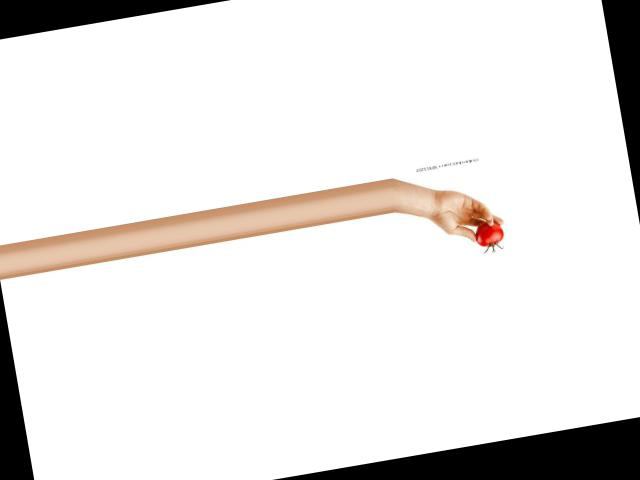tomato: (472, 218, 504, 247)
